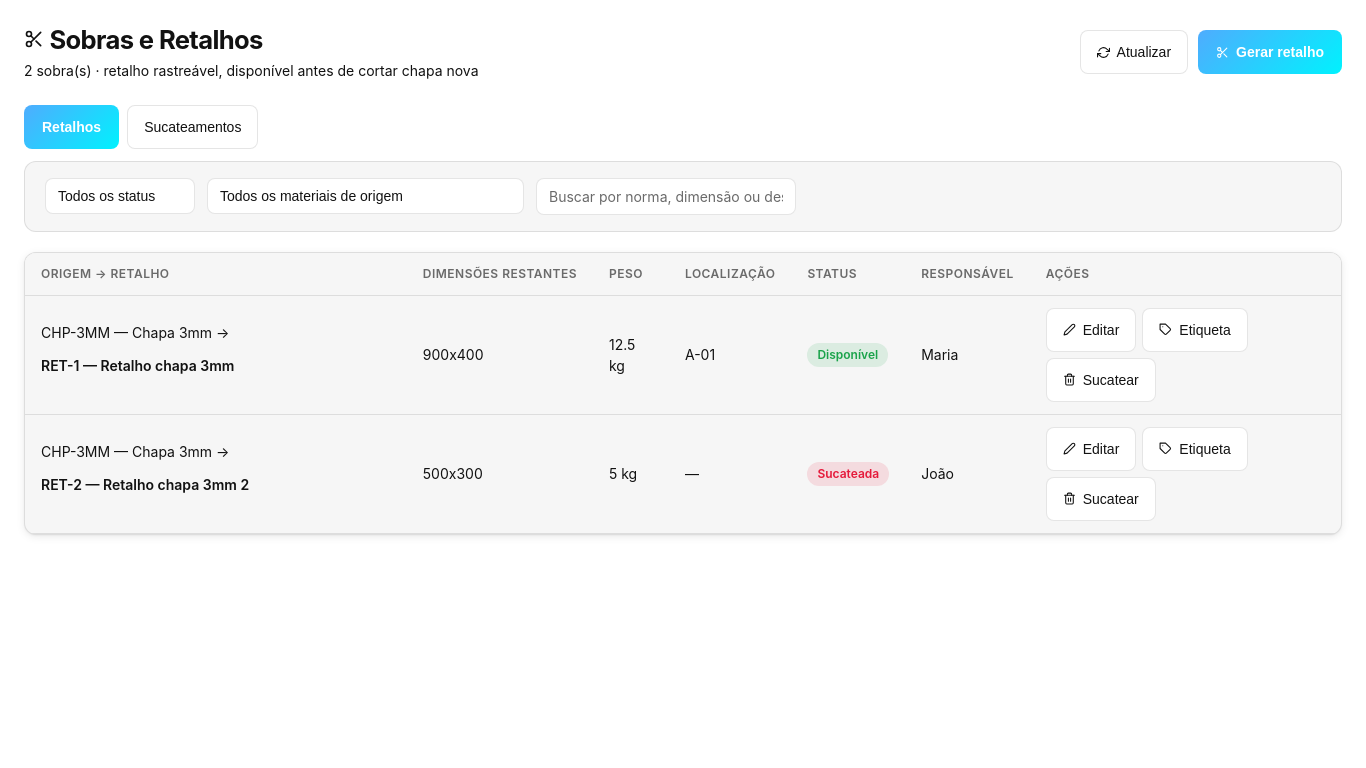
Test: SobrasAlmoxarifado — modal de gerar retalho › abre o modal com os campos de material de origem e do retalho
The width and height of the screenshot is (1366, 768).
Click the button "Gerar retalho" at (1270, 52), box x1=1198 y1=30 x2=1342 y2=74
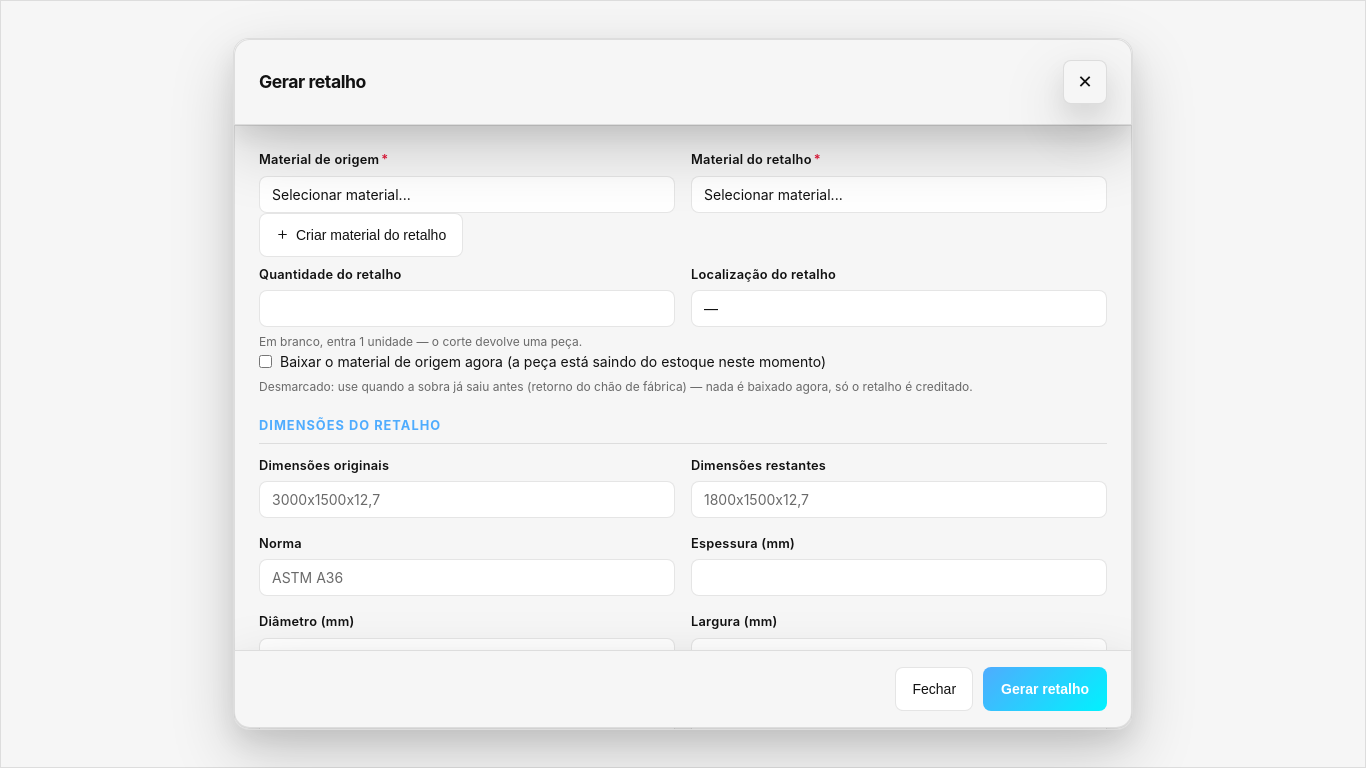
expect the 1st dropdown is shown: met, box x1=259 y1=176 x2=675 y2=213
expect the 2nd dropdown is shown: met, box x1=691 y1=176 x2=1107 y2=213
